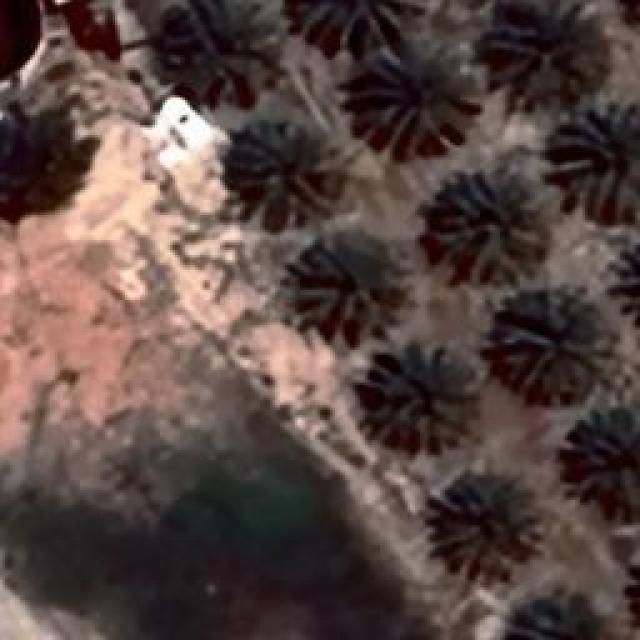PalmTree: (117, 25, 353, 102), (352, 35, 486, 155), (425, 172, 550, 288), (490, 285, 612, 400), (358, 338, 480, 452), (284, 235, 408, 338), (425, 468, 540, 578), (485, 0, 600, 100), (230, 120, 342, 222), (544, 100, 638, 220), (560, 408, 638, 518), (504, 595, 624, 640), (611, 235, 640, 338), (624, 541, 640, 640), (629, 543, 640, 640)
